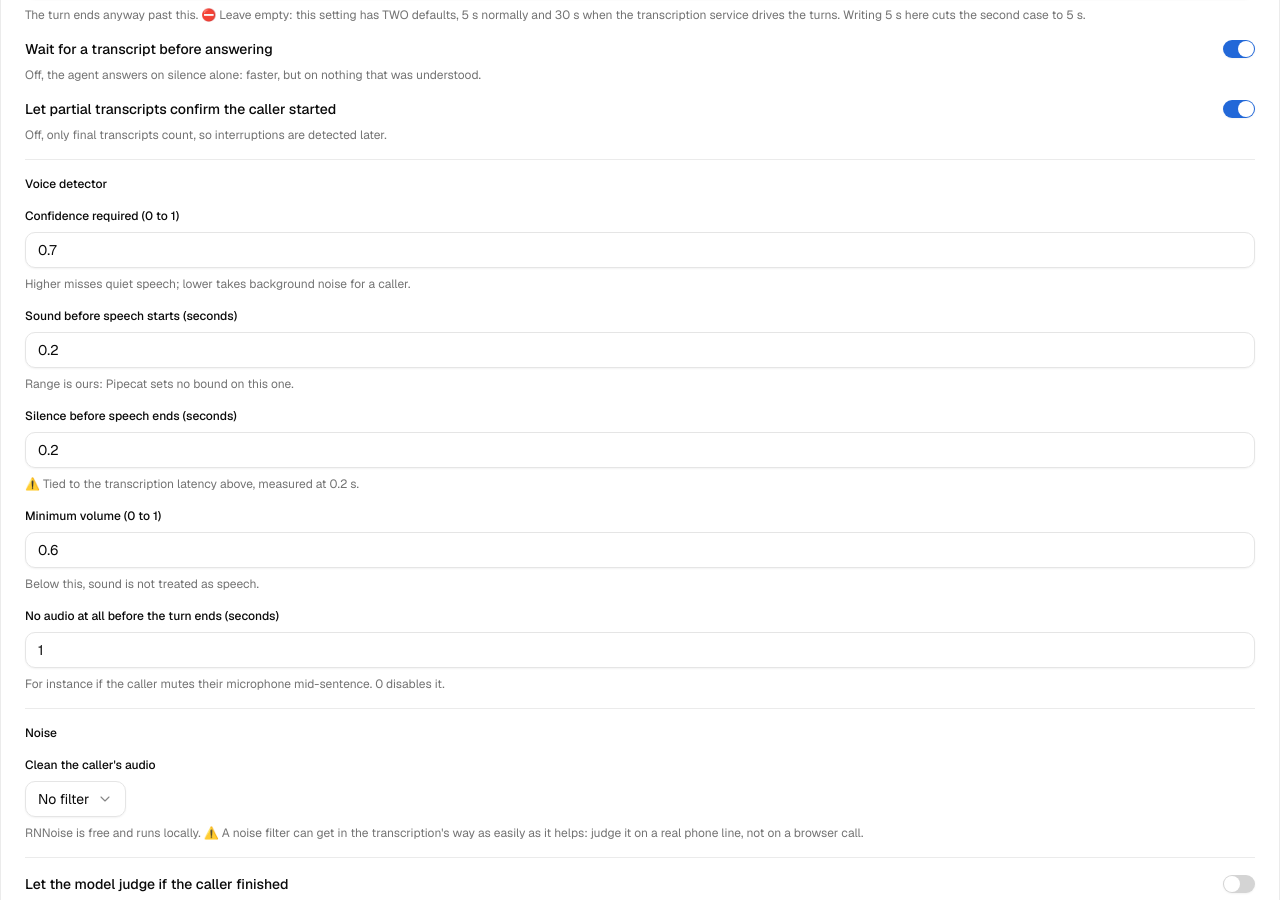
Test case: Section Reglages vocaux de la page de parametres › reouvre l'enregistrement des que la valeur revient dans les bornes
(page scrolled)
Replace the text in the number field labelled "Silence before speech ends (seconds)" with "0" at (640, 450), box [25,432,1255,468]
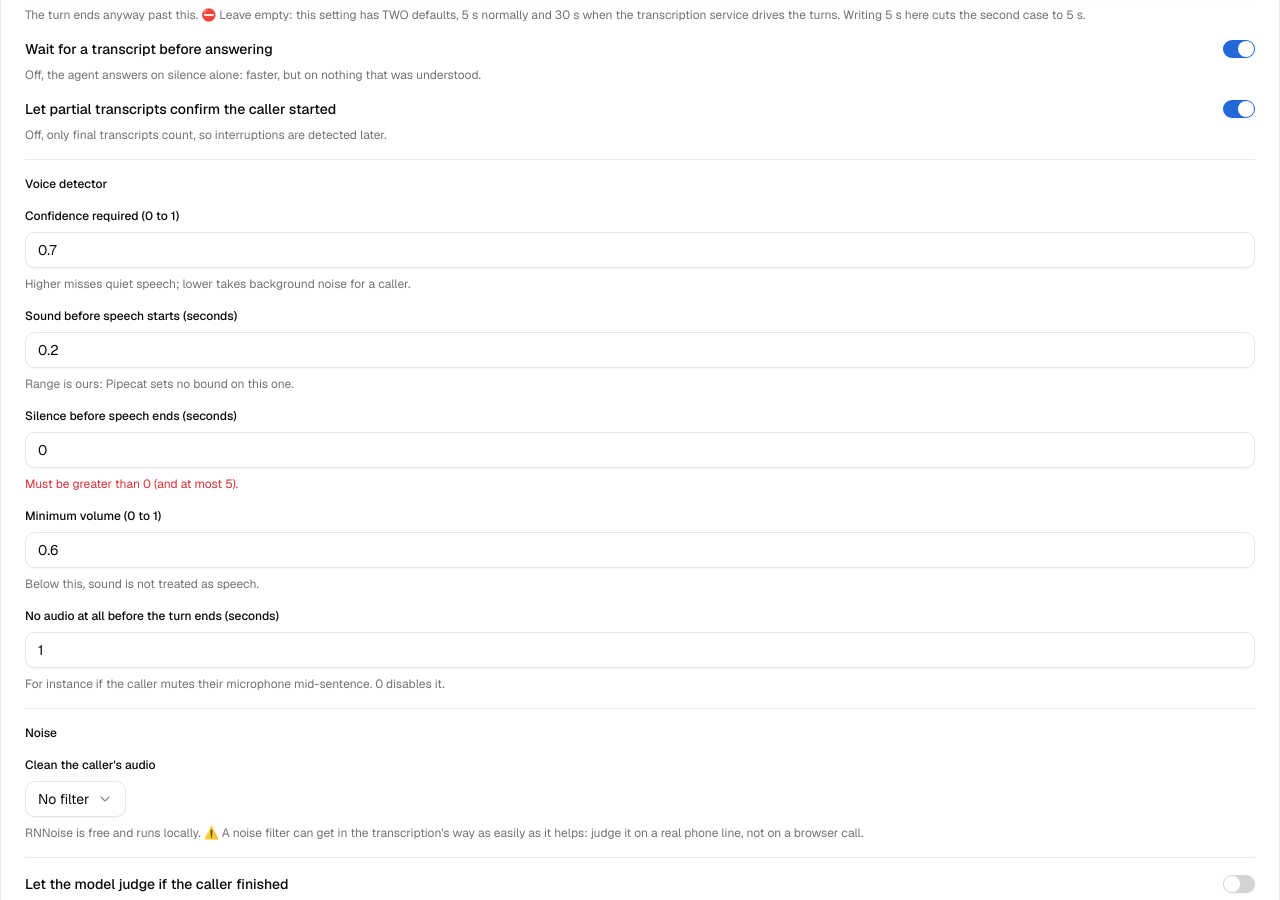
Replace the text in the number field labelled "Silence before speech ends (seconds)" with "0.4" at (640, 450), box [25,432,1255,468]
(page scrolled)
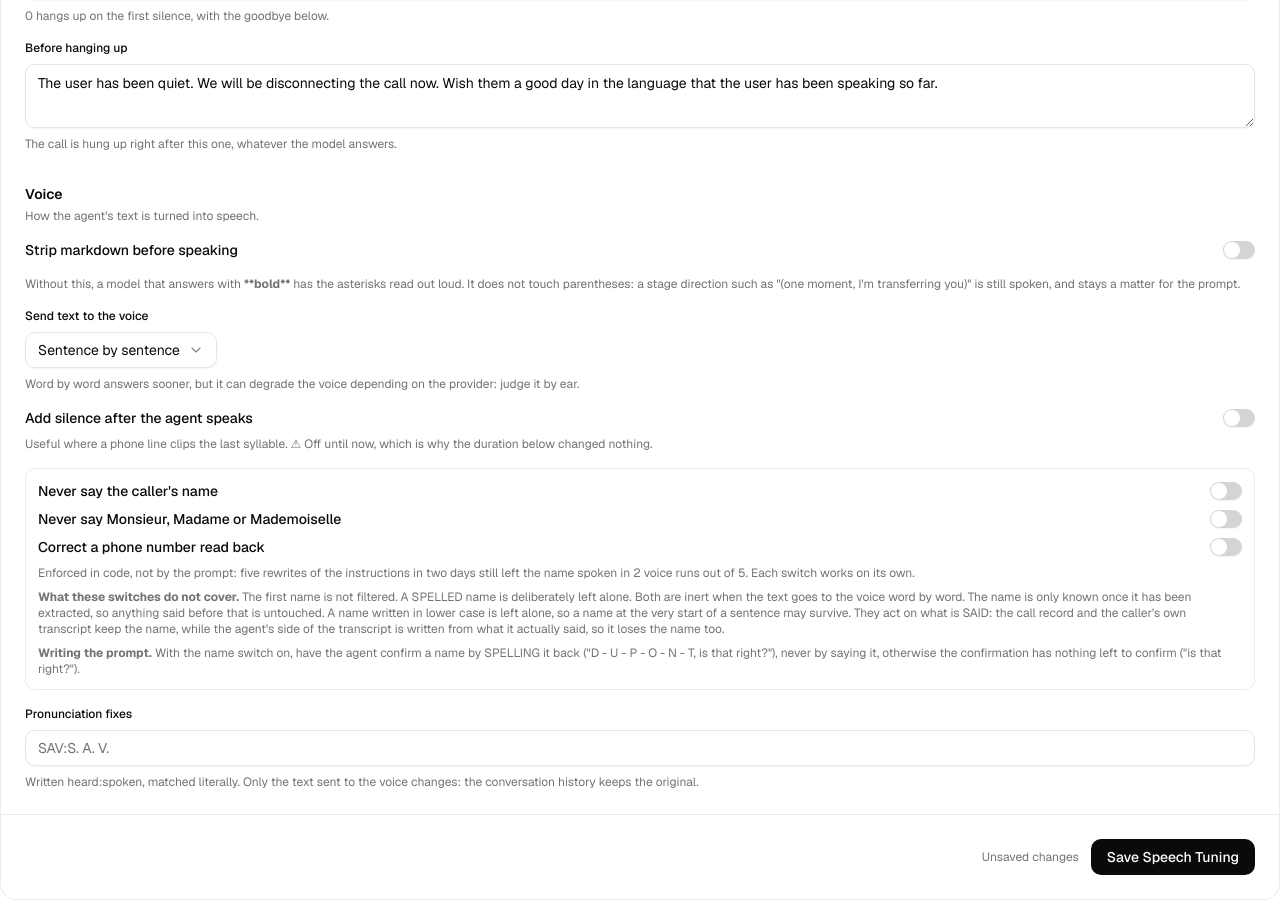
Now the button "Save Speech Tuning" is enabled, box [1091,839,1255,875]
Now the text "greater than 0" is gone
